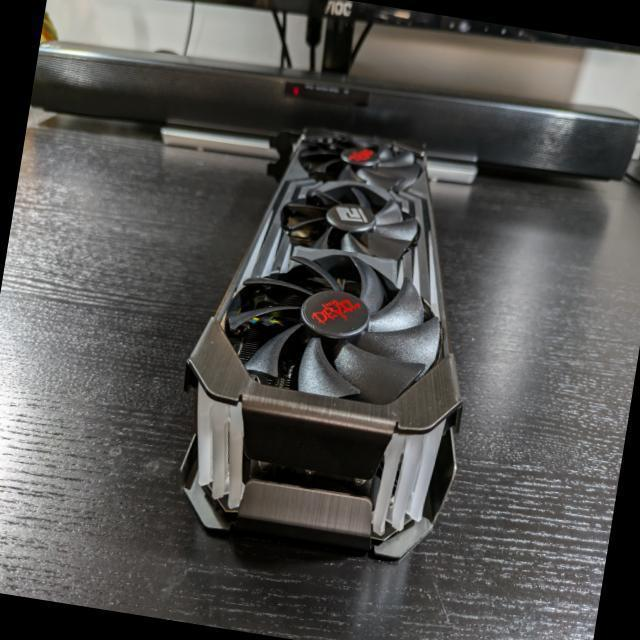GPU: (180, 126, 497, 562)
